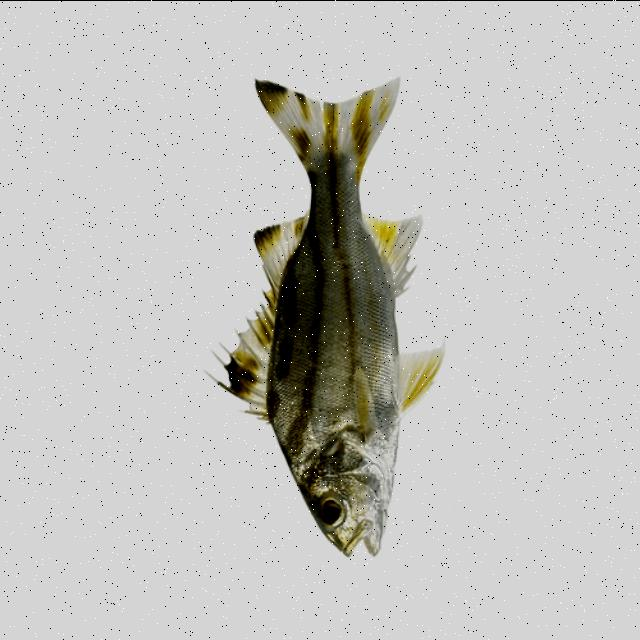Mulut: (325, 518, 401, 566)
Sirip Anal: (352, 202, 436, 294)
Sirip Dada: (331, 347, 385, 451)
Sirip Ekor: (248, 51, 412, 171)
Sirip Perut: (388, 334, 464, 414)
Sirip Punggung: (196, 212, 312, 444)
